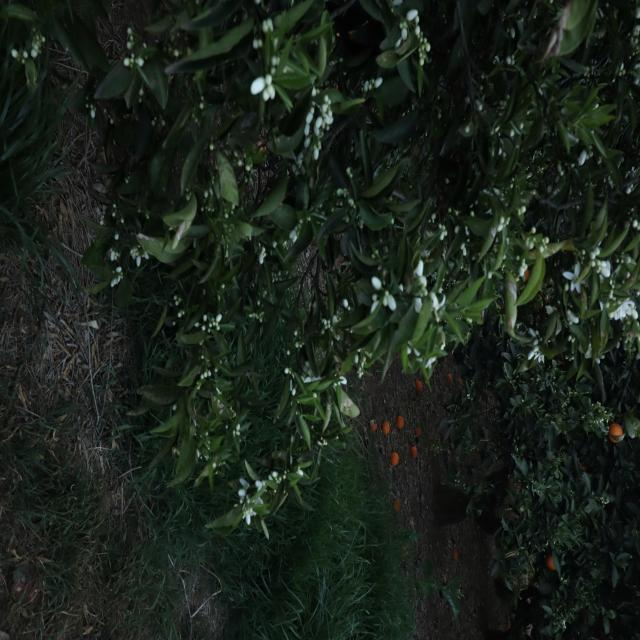Bunga: (262, 56, 292, 78), (300, 6, 320, 31), (362, 318, 382, 338), (21, 232, 49, 245), (34, 595, 57, 609), (290, 243, 312, 257), (107, 326, 136, 336), (478, 391, 504, 402), (290, 194, 310, 208), (17, 214, 44, 224), (76, 375, 95, 389), (42, 210, 64, 221), (85, 364, 102, 378), (508, 384, 526, 397), (294, 260, 314, 270), (77, 257, 91, 271), (274, 517, 288, 530), (260, 216, 278, 226), (116, 318, 136, 327), (357, 274, 379, 282), (95, 309, 112, 319), (111, 308, 128, 318), (8, 221, 20, 235), (140, 319, 161, 327), (471, 358, 483, 372), (18, 367, 33, 378), (262, 31, 280, 40), (248, 41, 266, 50), (258, 112, 276, 121), (28, 506, 50, 513), (310, 62, 325, 72), (54, 506, 69, 516), (149, 52, 165, 61), (296, 218, 314, 226), (278, 258, 290, 270), (376, 293, 386, 306), (274, 213, 288, 222), (247, 374, 265, 381), (237, 92, 252, 100), (236, 105, 248, 115), (312, 299, 325, 308), (218, 136, 232, 144), (370, 428, 380, 439), (39, 378, 50, 388), (350, 96, 362, 105), (250, 521, 262, 530), (348, 104, 361, 112), (424, 400, 437, 408), (318, 421, 332, 428), (230, 343, 242, 351), (479, 376, 491, 384), (318, 310, 330, 318), (248, 502, 260, 510), (256, 8, 264, 20), (51, 612, 64, 619), (104, 544, 118, 550), (81, 271, 93, 278), (328, 102, 338, 110), (55, 126, 65, 134), (230, 192, 240, 200), (213, 204, 223, 212), (250, 491, 260, 499), (354, 36, 364, 44), (48, 621, 58, 629), (294, 459, 305, 466), (220, 0, 231, 7), (76, 368, 88, 374), (266, 517, 275, 525), (206, 114, 214, 122), (58, 496, 66, 504), (184, 7, 193, 14), (310, 2, 320, 8), (240, 174, 250, 180), (314, 418, 324, 424), (300, 290, 310, 296), (255, 499, 267, 504), (309, 456, 318, 462), (339, 102, 352, 106), (336, 65, 343, 72), (224, 194, 230, 202), (246, 174, 256, 178), (470, 354, 480, 358), (368, 348, 373, 356), (388, 344, 396, 348), (326, 428, 334, 432), (122, 116, 128, 121), (354, 282, 364, 285), (321, 441, 327, 446), (233, 521, 240, 525), (342, 20, 349, 24), (150, 47, 156, 51), (130, 126, 136, 130), (148, 138, 154, 142), (315, 433, 322, 436), (348, 279, 353, 283), (104, 551, 109, 554), (326, 435, 330, 438)
Jeruk Sudah Matang: (425, 18, 443, 31), (546, 232, 562, 241), (555, 85, 571, 93), (452, 241, 466, 249), (416, 236, 429, 244), (422, 250, 434, 258), (382, 218, 392, 225), (500, 239, 510, 246), (270, 110, 280, 116), (446, 223, 456, 229), (374, 188, 384, 193), (550, 183, 560, 187), (428, 220, 436, 224)
